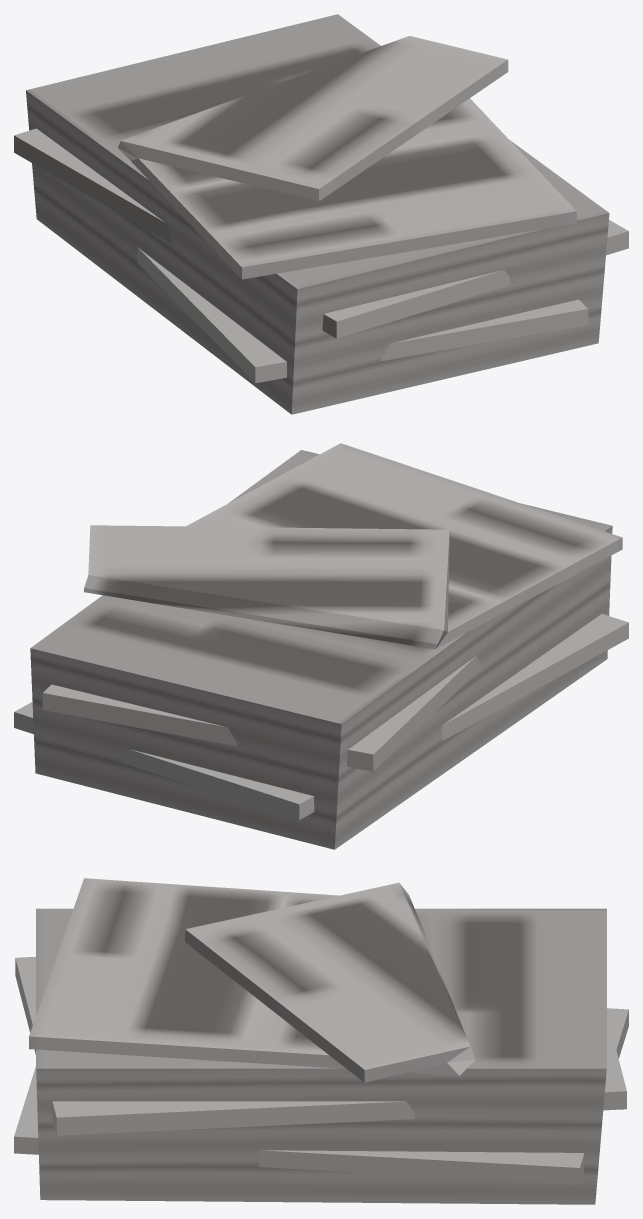
File: SM_Prop_Paper_Pile_03.fbx
3 views of the same model, one above another, from view 1: azimuth 30°, elevation 25°; view 2: azimuth 150°, elevation 25°; view 3: azimuth 270°, elevation 25° (orthographic). The views are drawn at different scales.
Parts seen in each view (by area): view 1: SM_Prop_Paper_Pile_03; view 2: SM_Prop_Paper_Pile_03; view 3: SM_Prop_Paper_Pile_03.
Boxes of the visible parts, x1,y1,x2,y2 form: SM_Prop_Paper_Pile_03: (14,14,628,414); SM_Prop_Paper_Pile_03: (14,443,628,849); SM_Prop_Paper_Pile_03: (14,878,628,1204).
Bounding box in the file's own units: 28.35 × 10.5 × 35.94.
